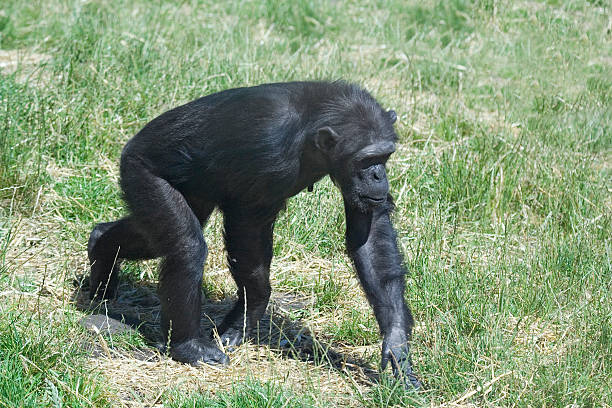chimpanzee: (304, 64, 408, 222)
